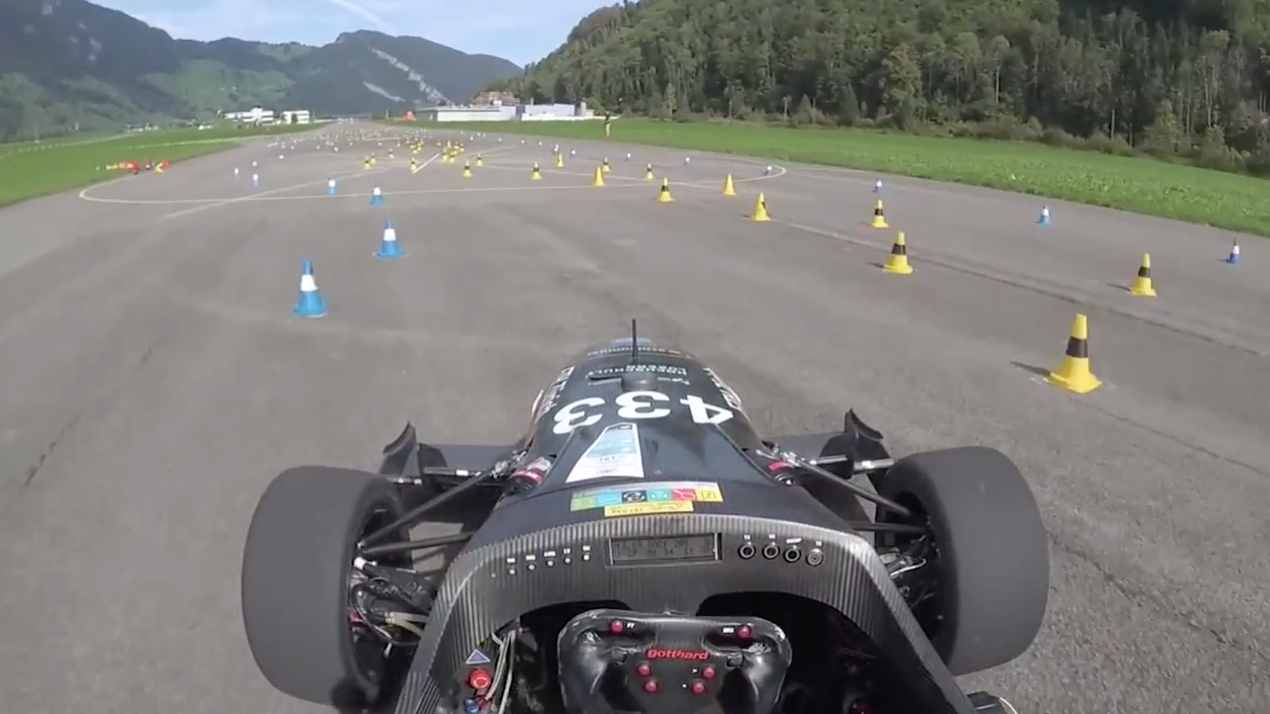lcone: (287, 257, 334, 323), (371, 217, 409, 264)
rcone: (1037, 312, 1108, 398), (880, 228, 919, 280), (1126, 252, 1166, 302), (865, 196, 891, 233)
